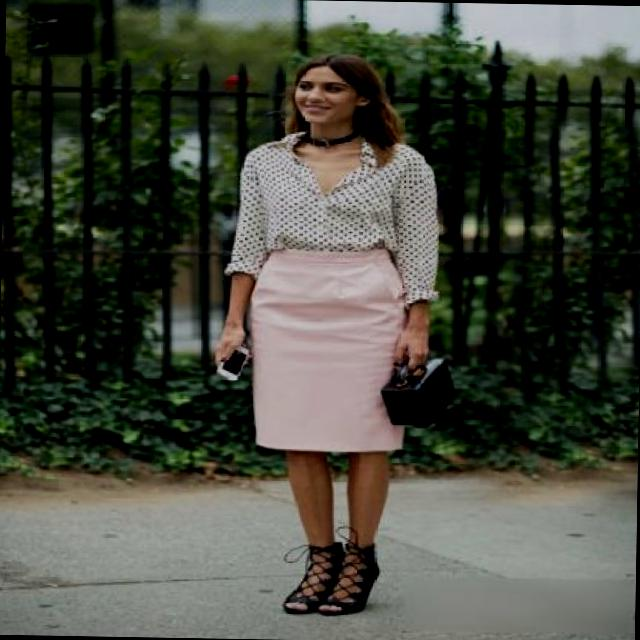Person: (200, 23, 489, 612)
